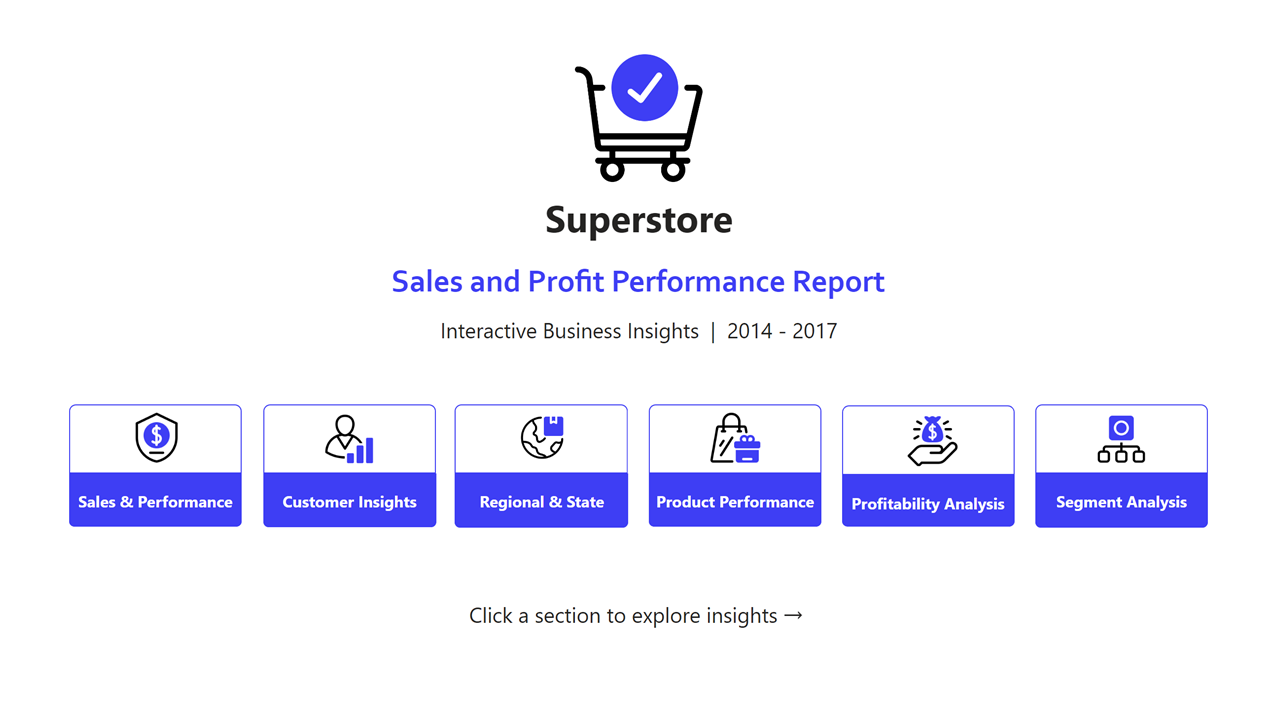

What the dashboard file says about the page in this screenshot:
{"tool":"powerbi","page":{"name":"Home","canvas":[1280,720],"ordinal":0},"visuals":[{"type":"image","box":[568.5,43.8,141.7,141.7],"z":1000},{"type":"textbox","box":[525.2,185.4,230,70],"z":2000},{"type":"textbox","box":[340.2,255.4,598.3,55],"z":3000},{"type":"textbox","box":[375.2,310.4,530,45],"z":4000},{"type":"shape","box":[62,475,175,54],"z":4000,"group":"g1"},{"type":"shape","box":[61.6,405.4,175,70],"z":5000,"group":"g1"},{"type":"shape","box":[845.8,405.8,175,70.5],"z":5000,"group":"g5"},{"type":"shape","box":[259.1,475.5,175.5,54.5],"z":5000},{"type":"image","box":[118.5,408.7,63.3,61.7],"z":6000,"group":"g1"},{"type":"shape","box":[845.7,475.7,175,52.9],"z":6000,"group":"g5"},{"type":"textbox","box":[376.9,587.1,530,70],"z":6000},{"type":"shape","box":[258.8,405.4,175,70],"z":7000},{"type":"group","id":"g1","title":"Group 1","box":[61.6,405.4,175.4,123.6],"z":8000},{"type":"group","id":"g2","title":"Group 3","box":[453,405.4,176,124.6],"z":9000},{"type":"shape","box":[453.1,405.4,175.7,70],"z":9000,"group":"g2"},{"type":"image","box":[906.6,410.8,61.5,62.1],"z":9000,"group":"g5"},{"type":"group","id":"g3","title":"Group 4","box":[649.9,405.4,175.3,123.6],"z":10000},{"type":"shape","box":[453,475,176,55],"z":10000,"group":"g2"},{"type":"shape","box":[649.9,405.4,175,70],"z":11000,"group":"g3"},{"type":"group","id":"g4","title":"Group 5","box":[1041.9,405.4,175,125],"z":11000},{"type":"image","box":[315.2,410.4,61.7,60],"z":12000},{"type":"textbox","box":[845.7,488.6,174.3,32.9],"z":12000,"group":"g5"},{"type":"shape","box":[1041.9,405.4,175,70],"z":13000,"group":"g4"},{"type":"textbox","box":[258.5,487.1,175,33.3],"z":13000},{"type":"group","id":"g5","title":"Group 2","box":[845.7,405.8,175.1,122.8],"z":14000},{"type":"shape","box":[650,475,175,54],"z":14000,"group":"g3"},{"type":"shape","box":[1041.9,475.4,175,55],"z":16000,"group":"g4"},{"type":"image","box":[706.9,408.7,61.7,61.7],"z":17000,"group":"g3"},{"type":"image","box":[1100.2,410.4,58.3,60],"z":18000,"group":"g4"},{"type":"image","box":[515.2,408.7,53.3,61.7],"z":20000,"group":"g2"},{"type":"textbox","box":[61.8,487.1,175,33.3],"z":23000,"group":"g1"},{"type":"textbox","box":[453.5,487.1,175,33.3],"z":25000,"group":"g2"},{"type":"textbox","box":[650.2,487.1,175,33.3],"z":26000,"group":"g3"},{"type":"textbox","box":[1041.9,487.1,175,33.3],"z":28000,"group":"g4"}]}

Visuals, with their boxes in screenshot pixels (x1, y1, x2, y2), scaled from the page's 1280x720 canvas onto the 1280x720 screenshot:
image: 568:44:710:186
textbox: 525:185:755:255
textbox: 340:255:938:310
textbox: 375:310:905:355
shape: 62:475:237:529
shape: 62:405:237:475
shape: 846:406:1021:476
shape: 259:476:435:530
image: 118:409:182:470
shape: 846:476:1021:529
textbox: 377:587:907:657
shape: 259:405:434:475
"Group 1" group: 62:405:237:529
"Group 3" group: 453:405:629:530
shape: 453:405:629:475
image: 907:411:968:473
"Group 4" group: 650:405:825:529
shape: 453:475:629:530
shape: 650:405:825:475
"Group 5" group: 1042:405:1217:530
image: 315:410:377:470
textbox: 846:489:1020:522
shape: 1042:405:1217:475
textbox: 258:487:434:520
"Group 2" group: 846:406:1021:529
shape: 650:475:825:529
shape: 1042:475:1217:530
image: 707:409:769:470
image: 1100:410:1158:470
image: 515:409:568:470
textbox: 62:487:237:520
textbox: 454:487:628:520
textbox: 650:487:825:520
textbox: 1042:487:1217:520
